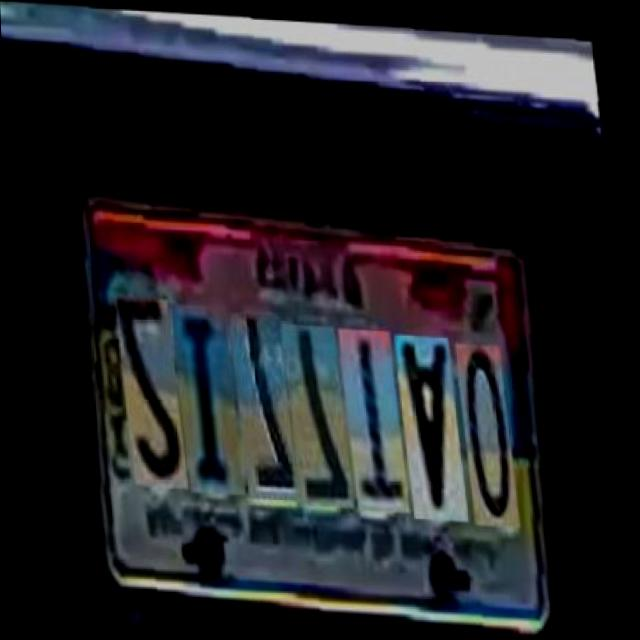2: (119, 297, 188, 490)
7: (232, 312, 300, 501), (284, 322, 352, 505)
a: (396, 329, 467, 518)
i: (172, 303, 244, 494)
o: (457, 337, 520, 520)
t: (341, 326, 410, 509)
